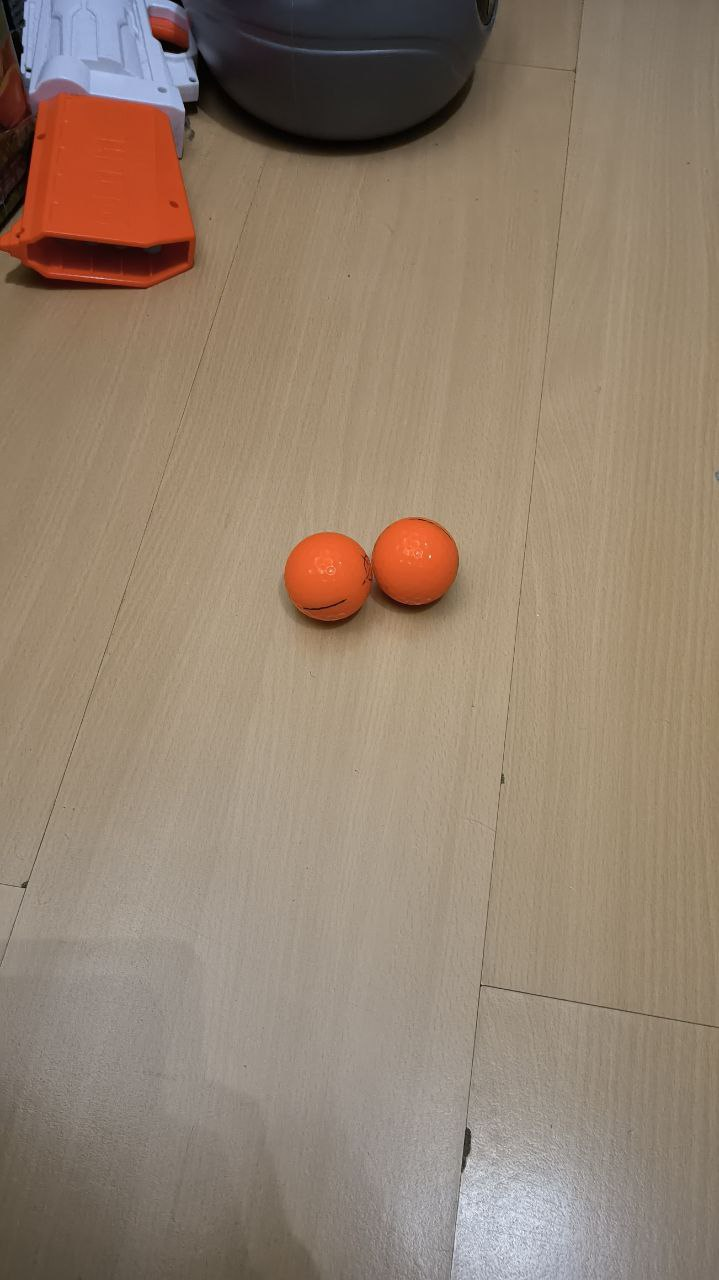orange_ball: (283, 531, 374, 621), (371, 516, 459, 606)
